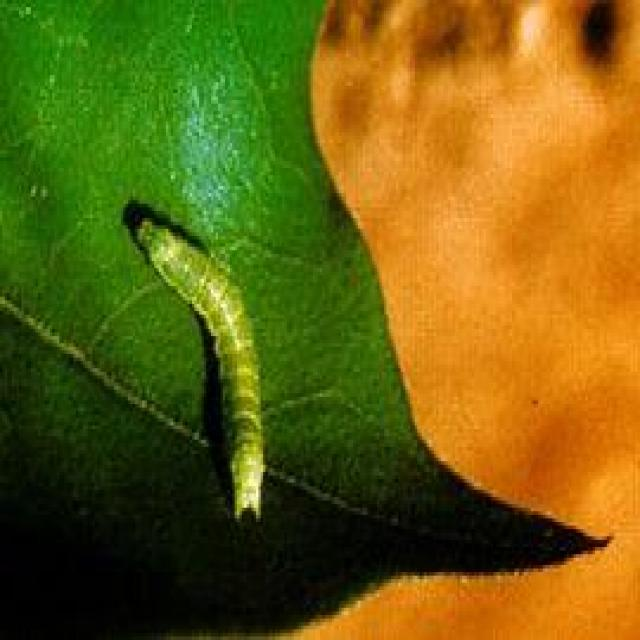BeetArmyWorm-Larva-: (125, 212, 274, 529)
